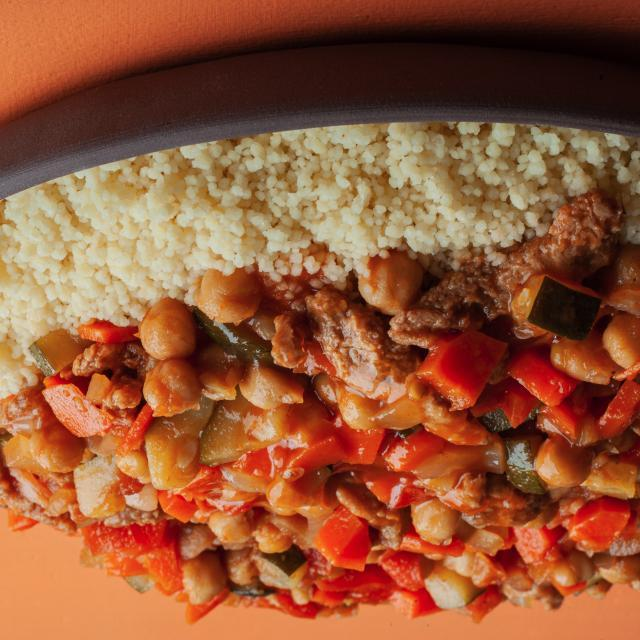Couscous: (2, 103, 640, 626)
